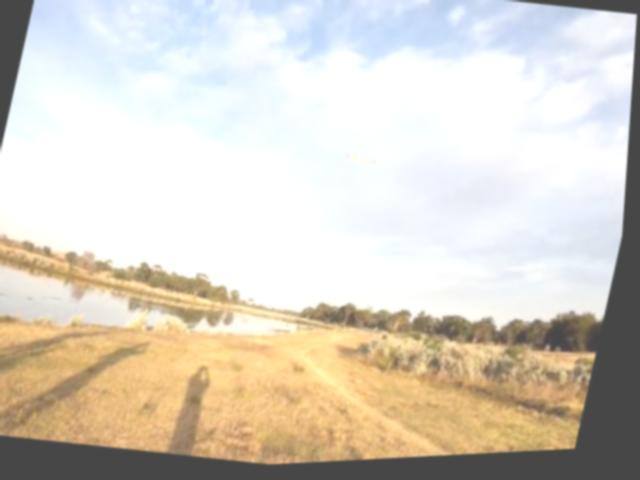uav: (344, 154, 381, 176)
